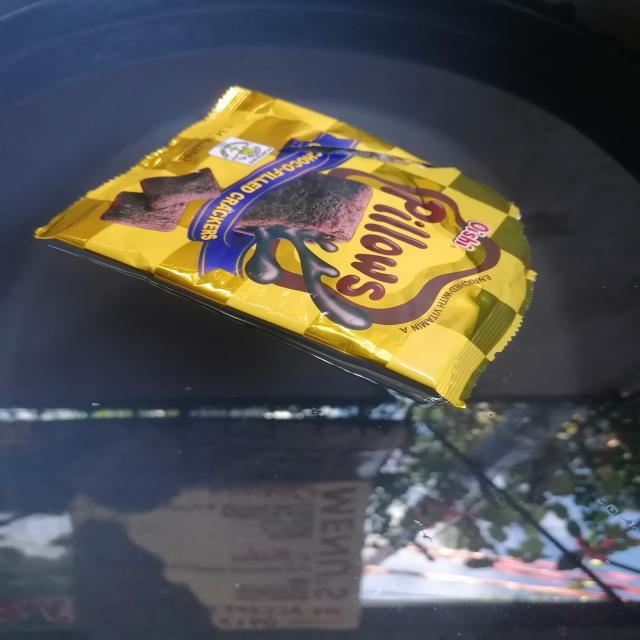Plastic Wrapper: (35, 87, 536, 407)
